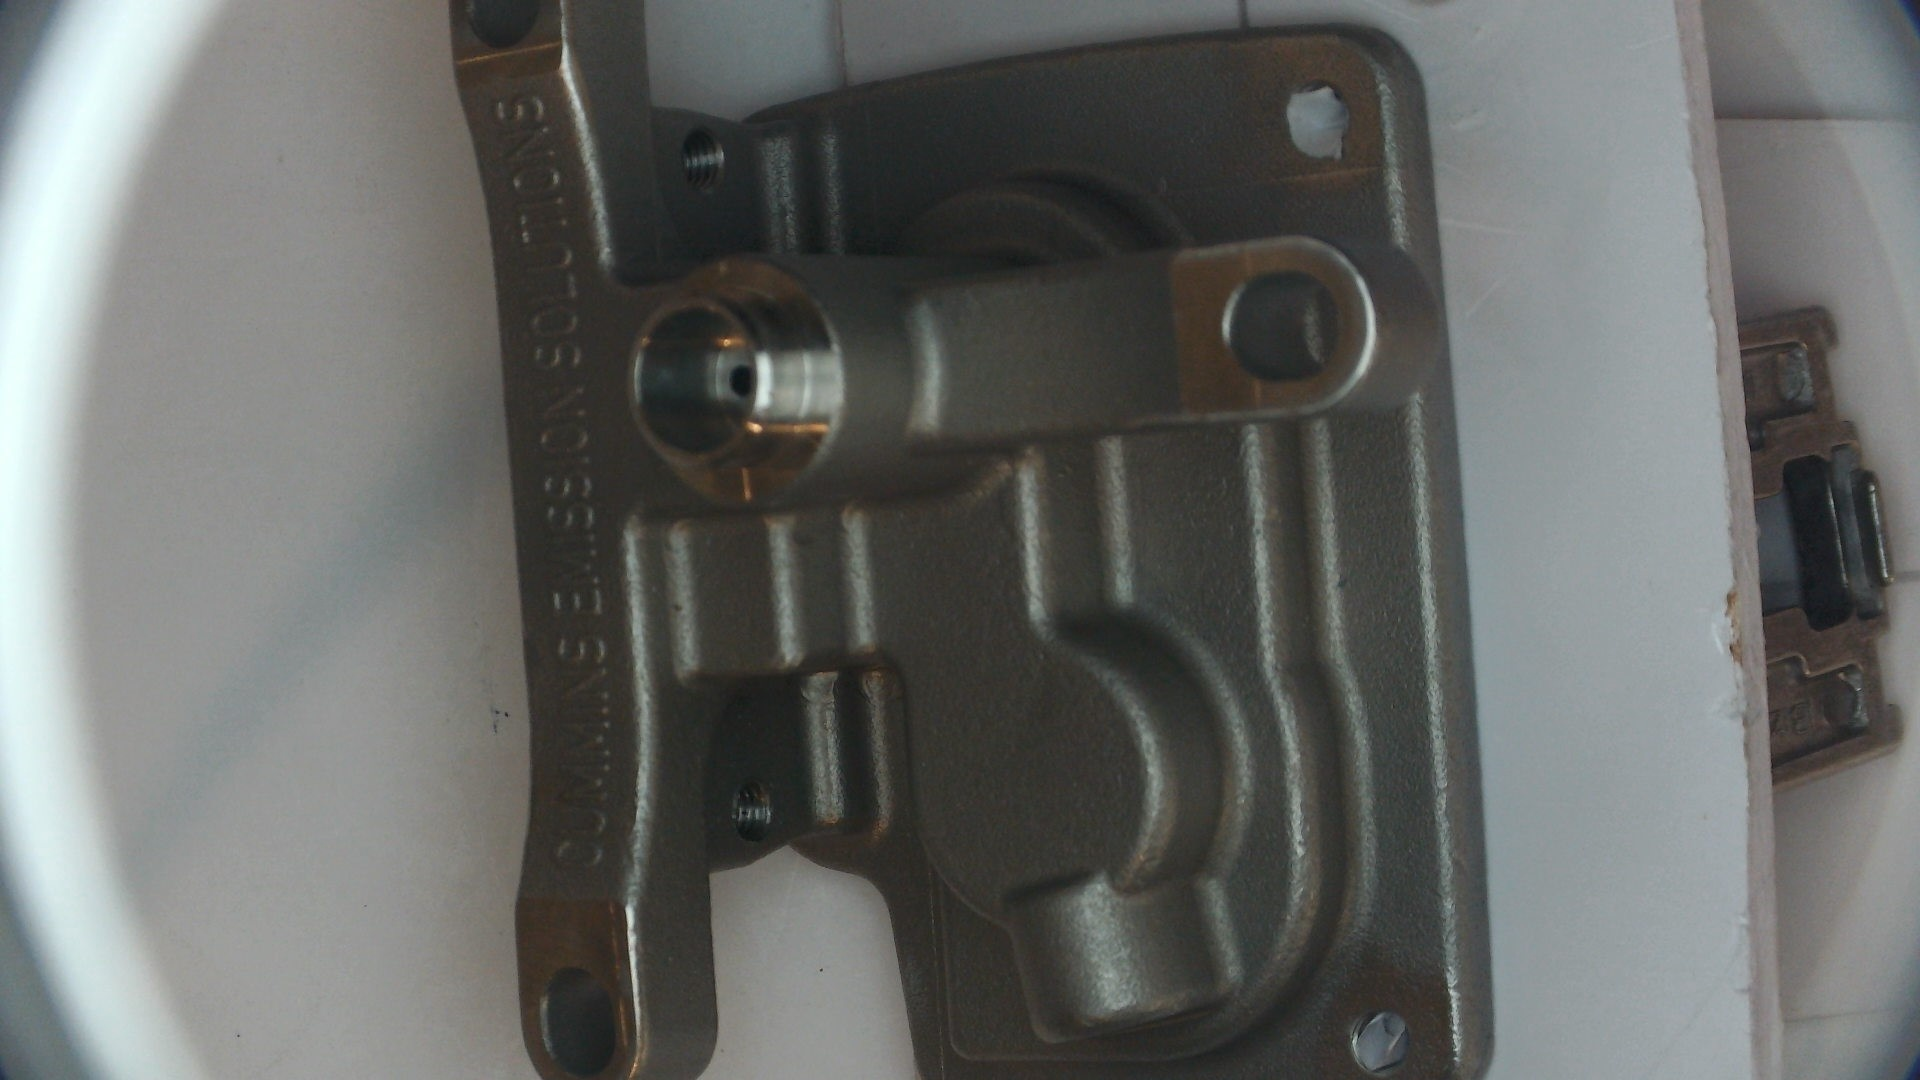thread_absence: (1280, 76, 1354, 161), (1348, 1006, 1414, 1077)
thread_presence: (678, 123, 727, 195), (728, 774, 775, 843)
